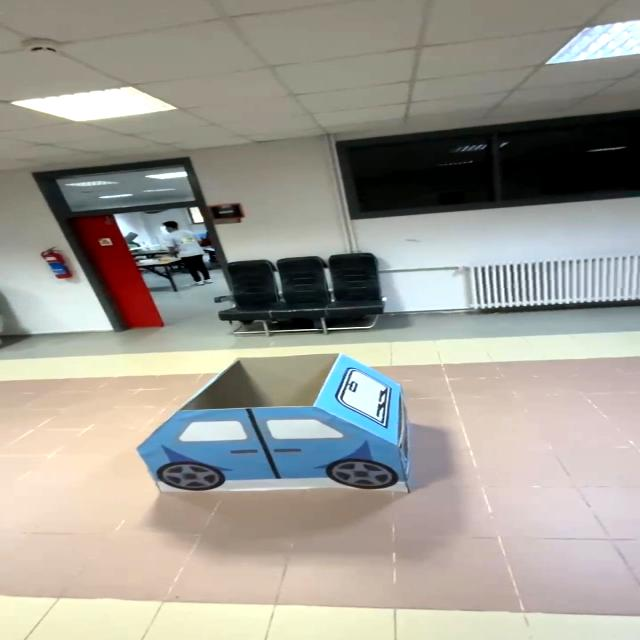blue_car: (101, 343, 439, 510)
